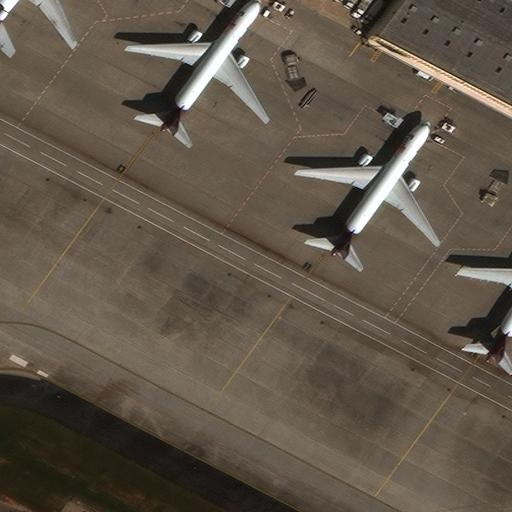Large Civil Transport: (297, 121, 440, 255), (128, 0, 270, 131), (460, 249, 512, 361), (0, 0, 77, 41)
